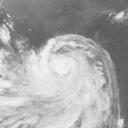cyclone: (29, 34, 115, 106)
